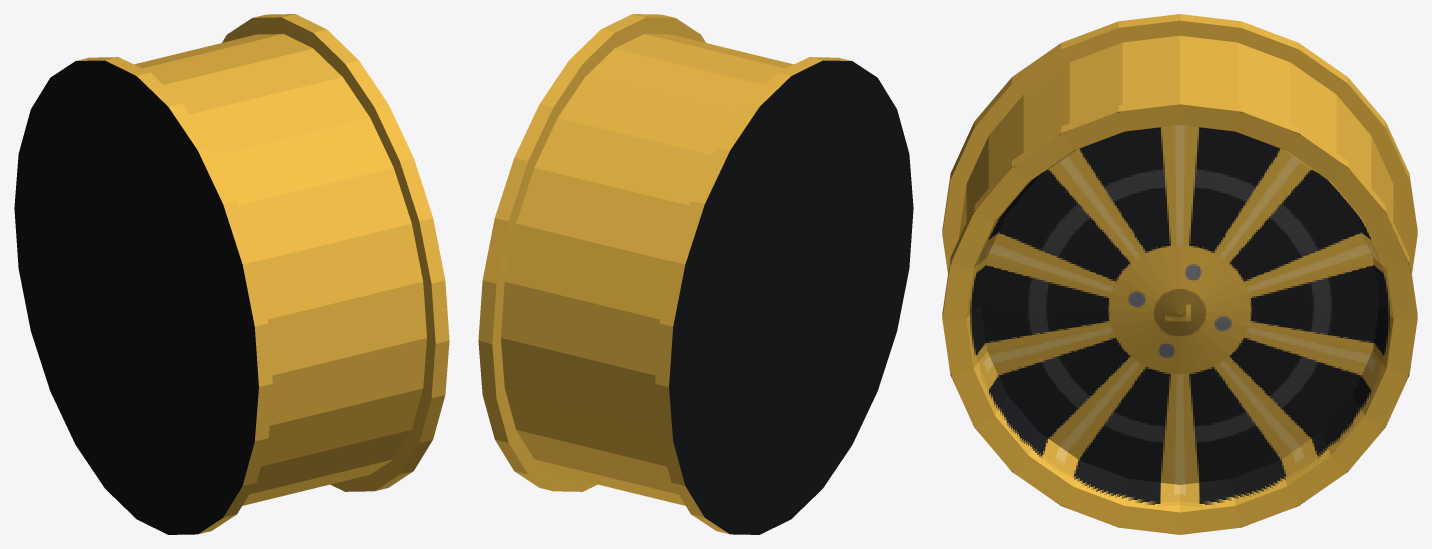
File: lumiar_dez_15.glb
3 renders of one model, left to right at view 1: azimuth 30°, elevation 25°; view 2: azimuth 150°, elevation 25°; view 3: azimuth 270°, elevation 25°, orthographic. The views are drawn at different scales.
Parts seen in each view (by area): view 1: lumiar_dez_15; view 2: lumiar_dez_15; view 3: lumiar_dez_15.
Part boxes in pixels (x1,y1,x2,y2): lumiar_dez_15: (14,14,449,534); lumiar_dez_15: (478,14,913,534); lumiar_dez_15: (942,14,1417,534).
Bounding box in the file's own units: 0.192 × 0.4267 × 0.4267.
Materials: 1 (1 with a texture image).
